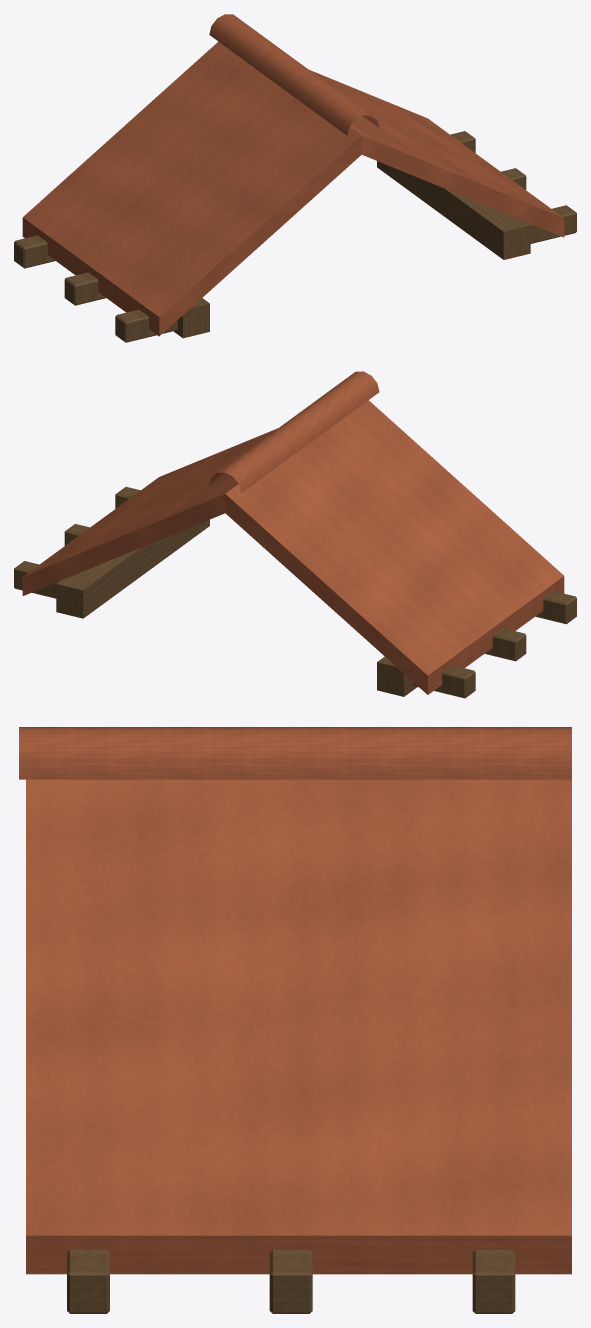
File: module-roof-simple-bay.glb
The picture shows the model from 3 angles, top to bottom: view 1: azimuth 30°, elevation 25°; view 2: azimuth 150°, elevation 25°; view 3: azimuth 270°, elevation 25°; orthographic projection. The views are drawn at different scales.
Parts seen in each view (by area): view 1: module-roof-simple-bay; view 2: module-roof-simple-bay; view 3: module-roof-simple-bay.
Part boxes in pixels (x1,y1,x2,y2): module-roof-simple-bay: [14, 14, 576, 342]; module-roof-simple-bay: [14, 371, 576, 698]; module-roof-simple-bay: [19, 727, 571, 1313].
Size of the model in its own units: 2.68 by 1.05 by 1.42.
Materials: 1 (1 with a texture image).
